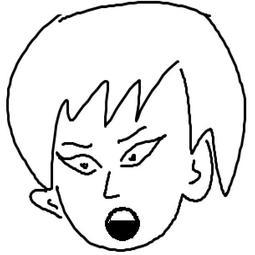ear: (23, 188, 66, 222)
eye: (118, 132, 169, 170), (55, 149, 103, 177)
eyebrow: (56, 135, 96, 152)
frowning_eyebrow: (114, 124, 150, 144)
large_ear: (176, 122, 223, 207)
open_mouth: (104, 203, 142, 243)
pointy_nose: (101, 169, 121, 202)
